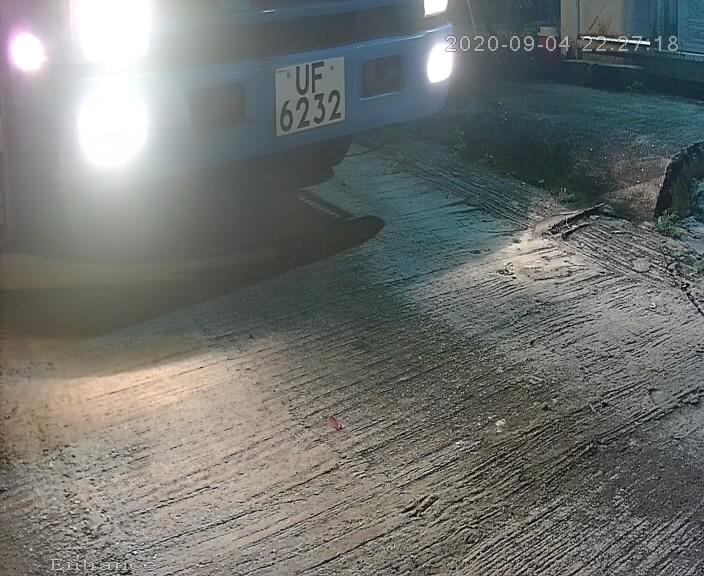License Plate: (255, 39, 362, 150)
